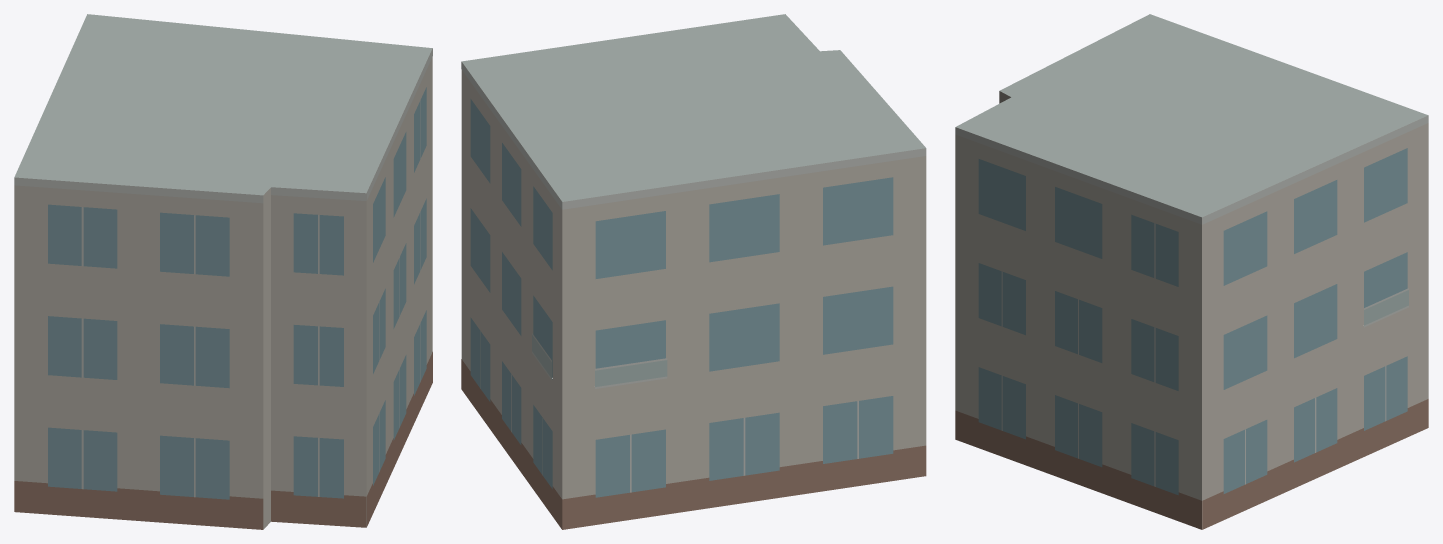
File: survey-upis-32890468.glb
3 renders of one model, left to right at view 1: azimuth 30°, elevation 25°; view 2: azimuth 150°, elevation 25°; view 3: azimuth 270°, elevation 25°, orthographic. The views are drawn at different scales.
Visible parts, largest first — view 1: survey-upis-32890468.tmp; view 2: survey-upis-32890468.tmp; view 3: survey-upis-32890468.tmp.
Boxes of the visible parts, x1=… form: survey-upis-32890468.tmp: x1=14, y1=14, x2=432, y2=529; survey-upis-32890468.tmp: x1=461, y1=14, x2=926, y2=529; survey-upis-32890468.tmp: x1=955, y1=14, x2=1428, y2=529.
Size of the model in its own units: 14.39 by 10.3 by 14.15.
